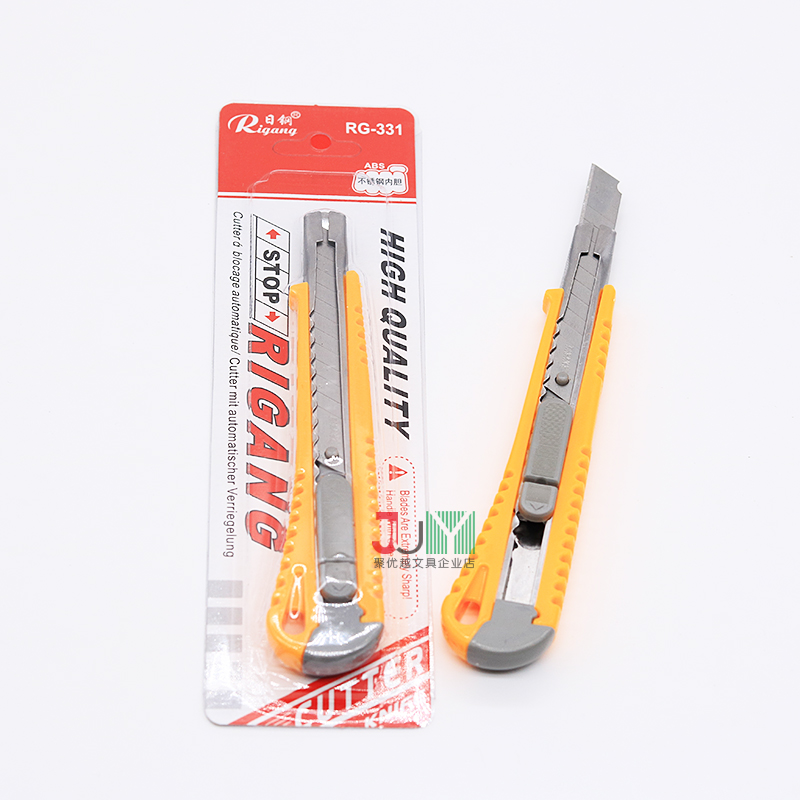cutter: (440, 162, 626, 674), (268, 209, 388, 679)
